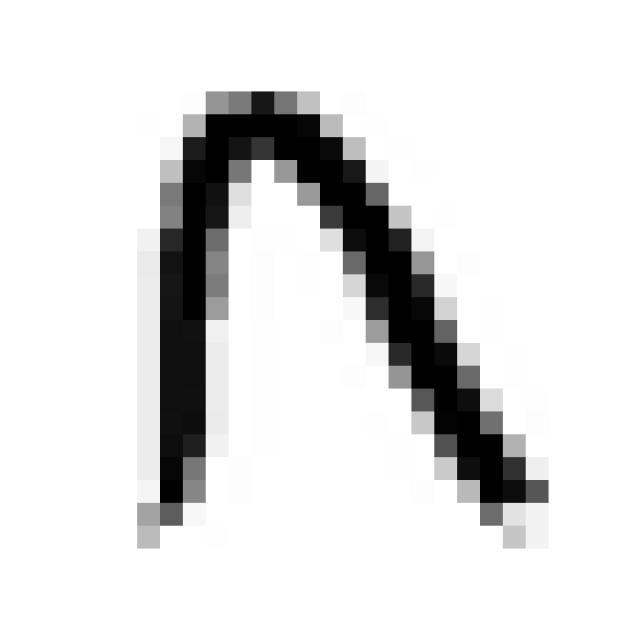8 -eight-: (117, 73, 556, 550)
